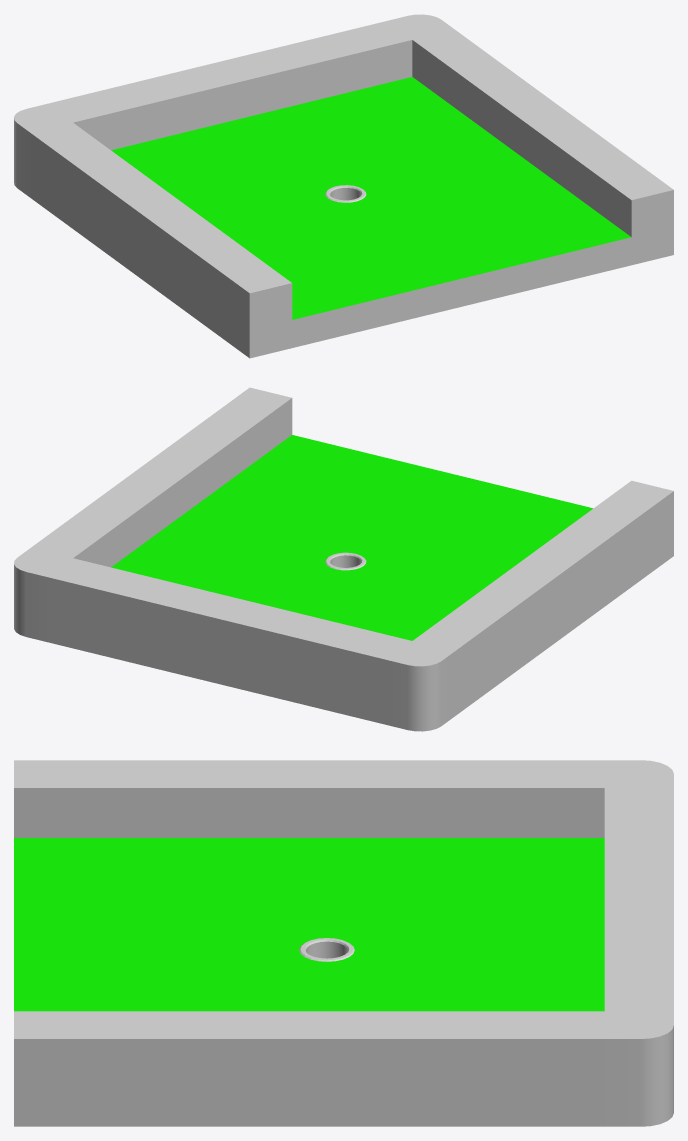
Rendered from end1.obj.
The picture shows the model from 3 angles, top to bottom: view 1: azimuth 30°, elevation 25°; view 2: azimuth 150°, elevation 25°; view 3: azimuth 270°, elevation 25°; orthographic projection. The views are drawn at different scales.
Visible parts, largest first — view 1: end; view 2: end; view 3: end.
Boxes of the visible parts, x1,y1,x2,y2 form: end: (14,14,673,358); end: (14,387,673,731); end: (14,760,673,1126).
Bounding box in the file's own units: 3 × 0.8234 × 3.
